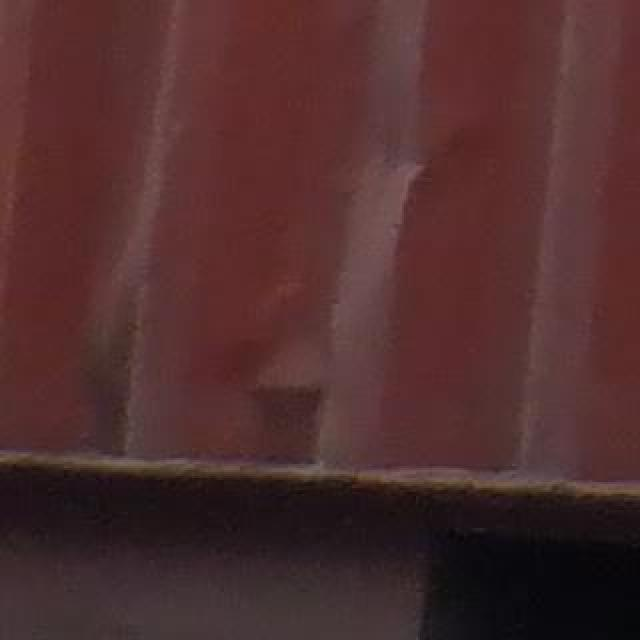dent: (1, 199, 367, 447)
